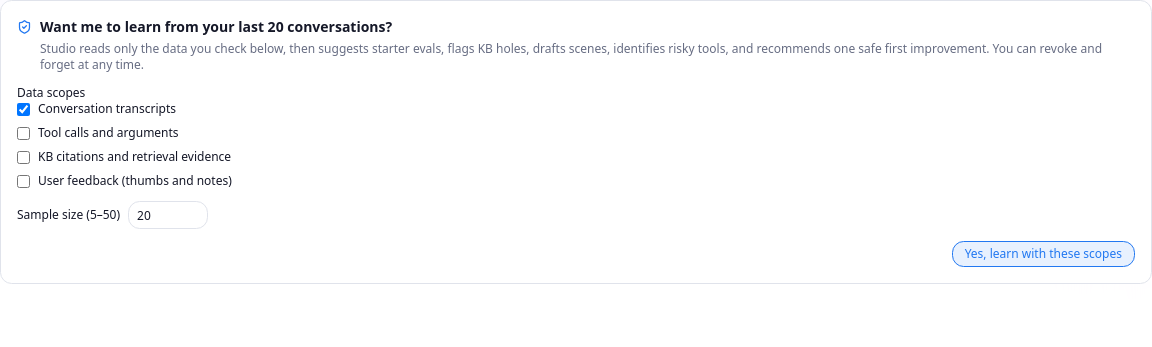
Test: ConciergeConsentPanel › blocks acceptance when no scope is selected
// Untick the only default scope.
Step 1. Click the checkbox with test id "concierge-scope-transcripts" → {"x": 24, "y": 109}, box [17,102,30,116]
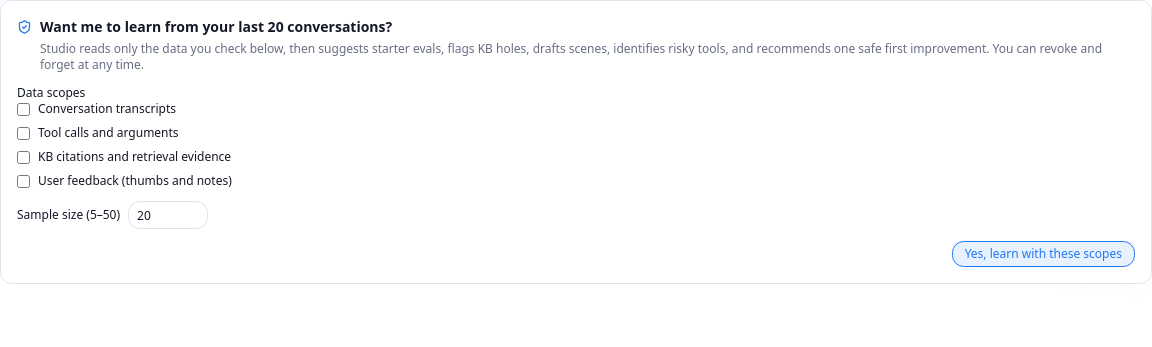
Step 2. Click the button with test id "concierge-accept" → {"x": 1043, "y": 254}, box [952,241,1135,267]
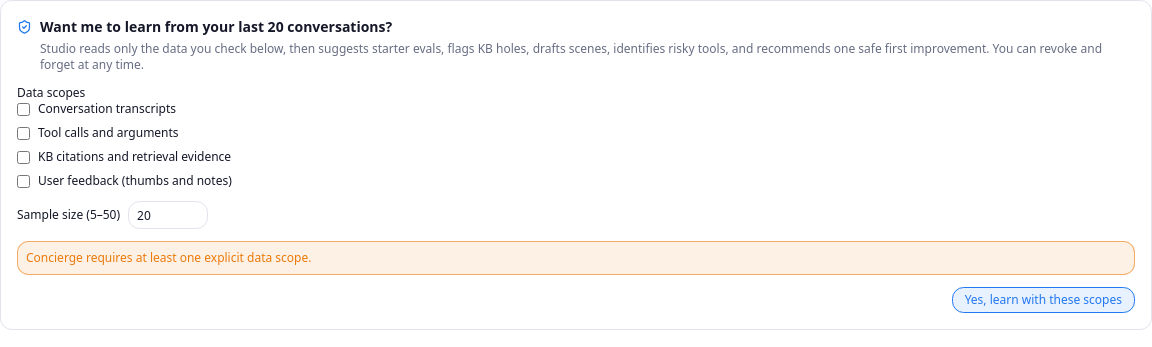
Check: the message with test id "concierge-error" shows "scope", box [26,249,312,266]
